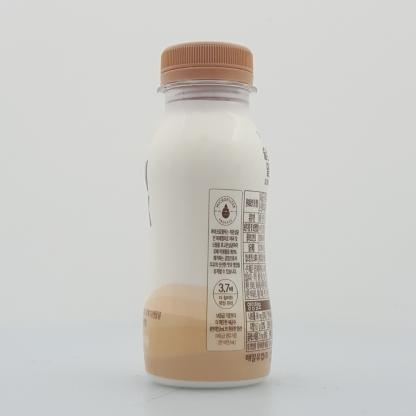----------180ML: (142, 41, 273, 389)
